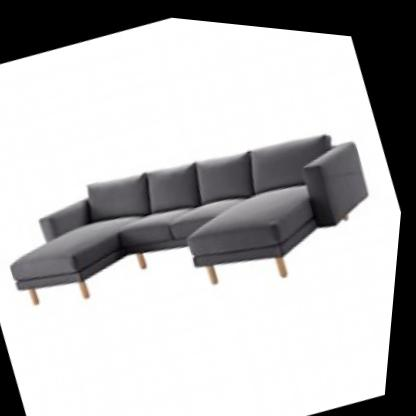Sofa: (0, 53, 405, 386)
